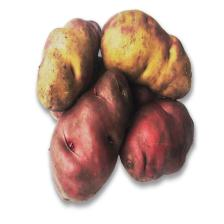Defected potato: (48, 68, 134, 204), (116, 98, 196, 184)
Diseased-fungal potato: (100, 8, 194, 100), (36, 18, 102, 113)
